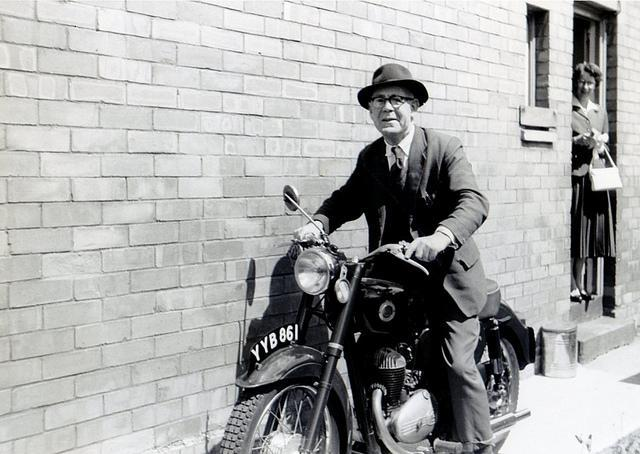motorcycle: (219, 186, 536, 448)
